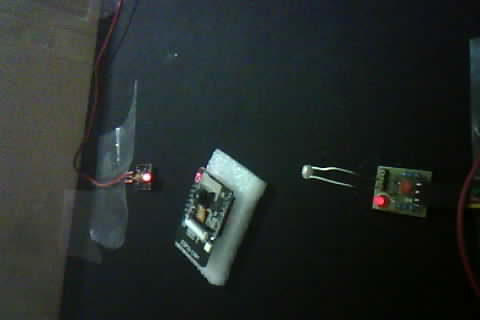esp32: (164, 166, 255, 276)
